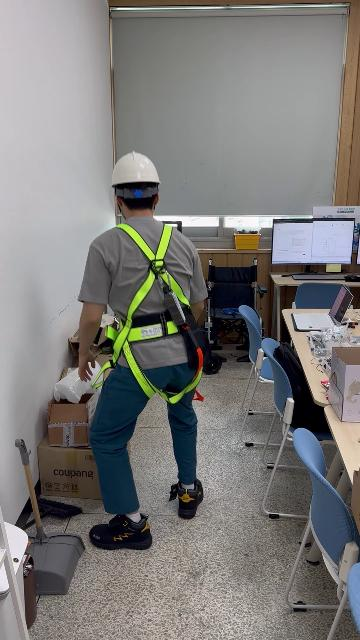helmet_worn: (110, 150, 163, 188)
shoe_worn: (88, 513, 152, 550), (168, 478, 201, 518)
vest_worn: (97, 223, 205, 396)
